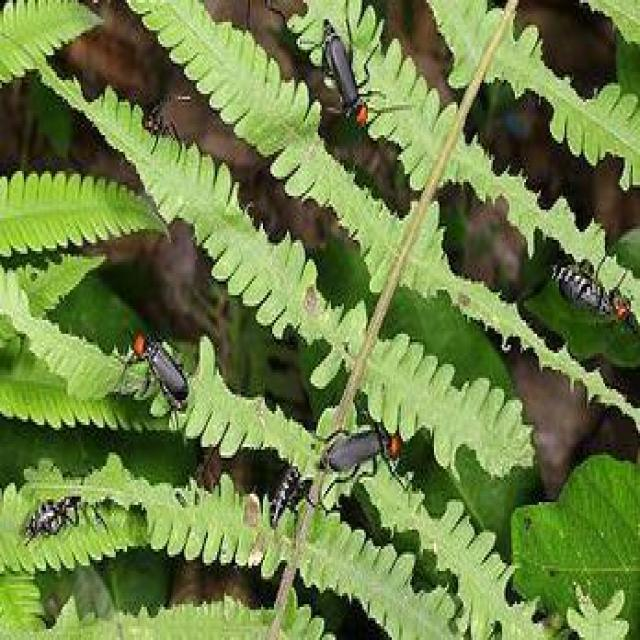BlisterBeetle-Adult-: (537, 246, 635, 328), (126, 317, 198, 426), (311, 11, 374, 134), (316, 409, 407, 492)
